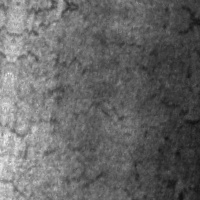crazing: (1, 2, 166, 176), (151, 106, 199, 199)
